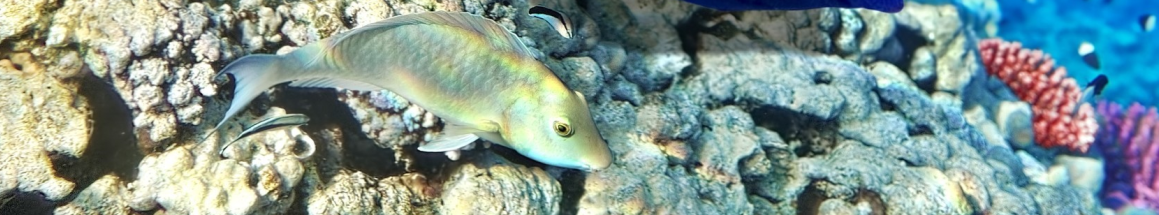fishLarge: (188, 10, 616, 175), (173, 93, 192, 100)
